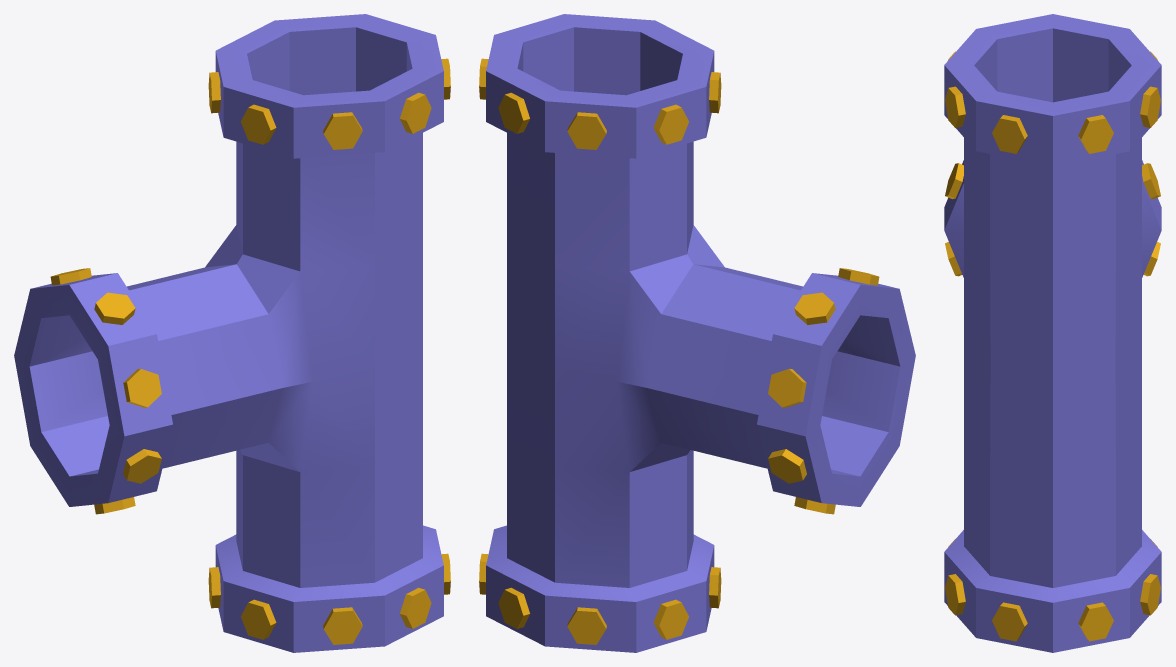
Rendered from pipe3.fbx.
The picture shows the model from 3 angles, left to right: view 1: azimuth 30°, elevation 25°; view 2: azimuth 150°, elevation 25°; view 3: azimuth 270°, elevation 25°; orthographic projection.
Visible parts, largest first — view 1: pipe3; view 2: pipe3; view 3: pipe3.
Part boxes in pixels (box(x1,y1,x2,y2)): pipe3: box(14, 14, 450, 652); pipe3: box(479, 14, 915, 652); pipe3: box(944, 14, 1161, 652).
Bounding box in the file's own units: 7.01 × 3.66 × 9.97.
